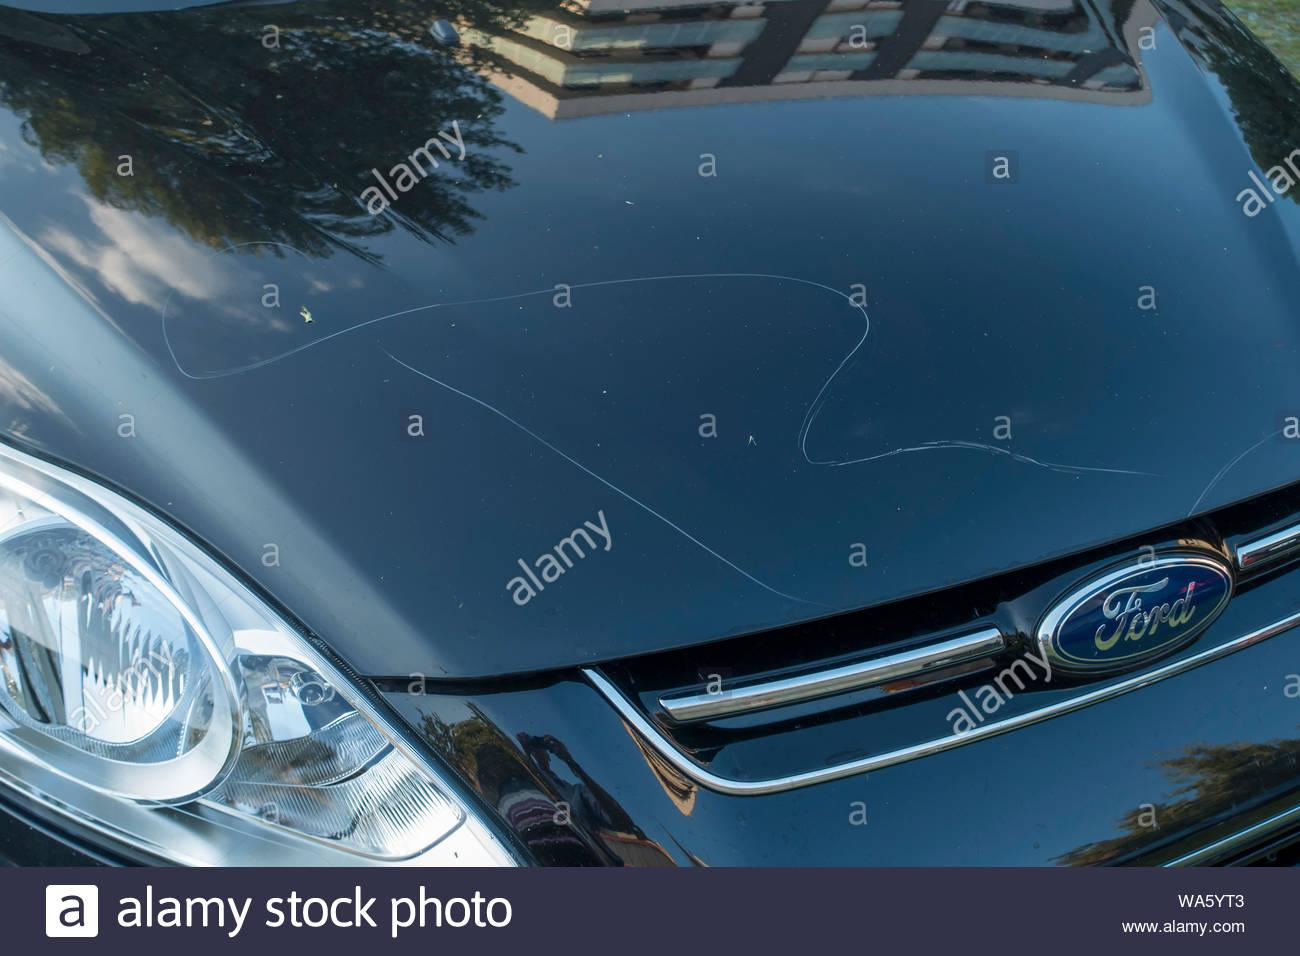bonnet-dent: (23, 73, 1299, 704)
